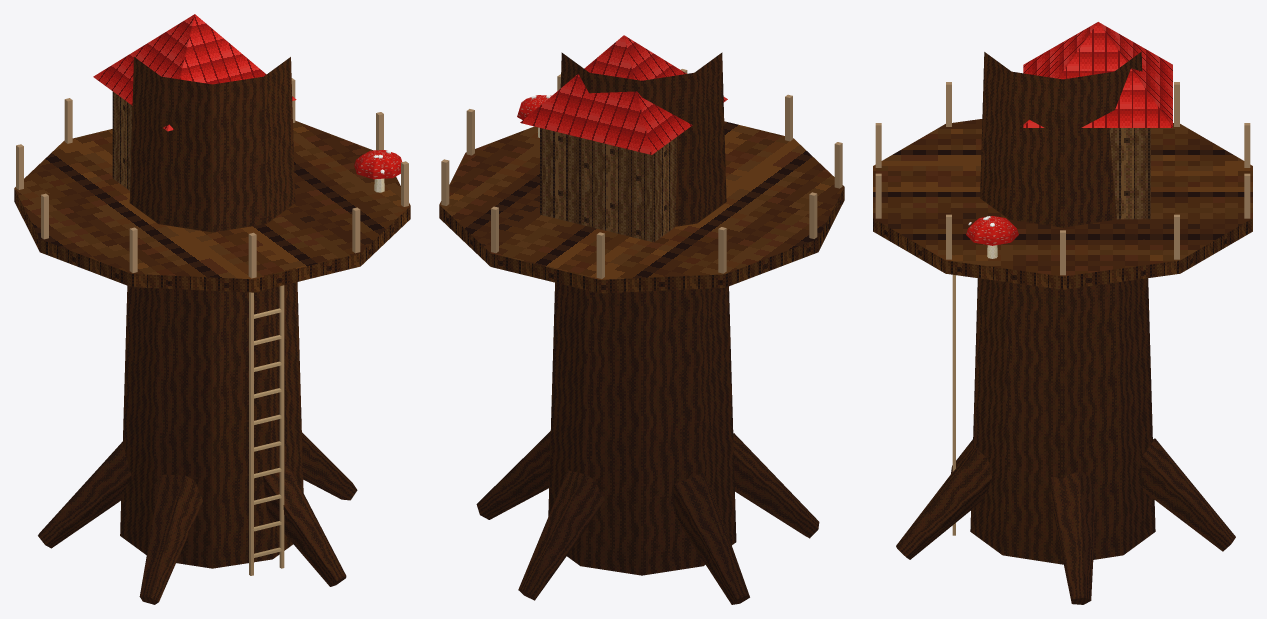
Rendered from treehouse.glb.
The picture shows the model from 3 angles, left to right: view 1: azimuth 30°, elevation 25°; view 2: azimuth 150°, elevation 25°; view 3: azimuth 270°, elevation 25°; orthographic projection. The views are drawn at different scales.
Visible parts, largest first — view 1: treehouse; view 2: treehouse; view 3: treehouse.
Part boxes in pixels (x1,y1,x2,y2): treehouse: (14,14,410,604); treehouse: (439,35,844,604); treehouse: (873,22,1252,604).
Bounding box in the file's own units: 6.8 × 9.67 × 6.47.
7 materials, 6 textured.
